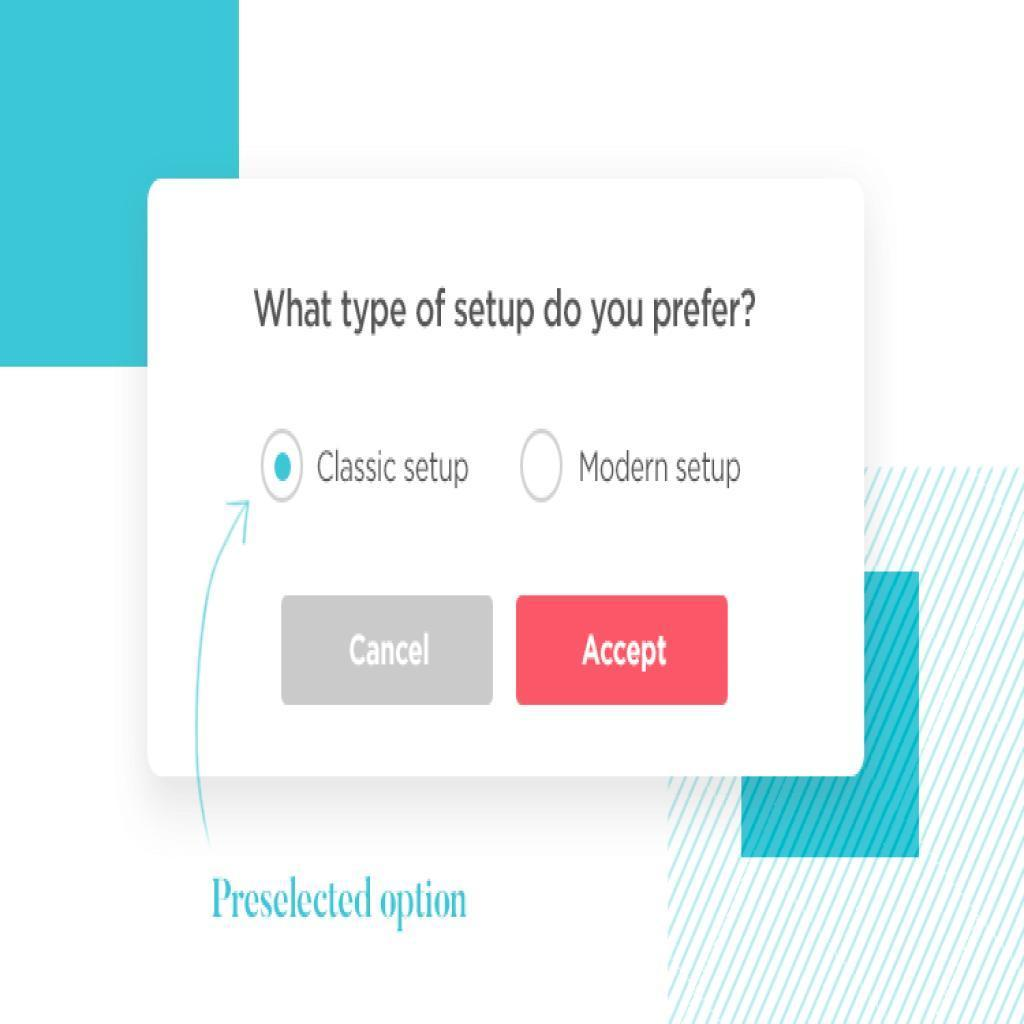button: (513, 596, 733, 709), (280, 594, 495, 709)
radio: (518, 427, 564, 505), (260, 429, 305, 505)
